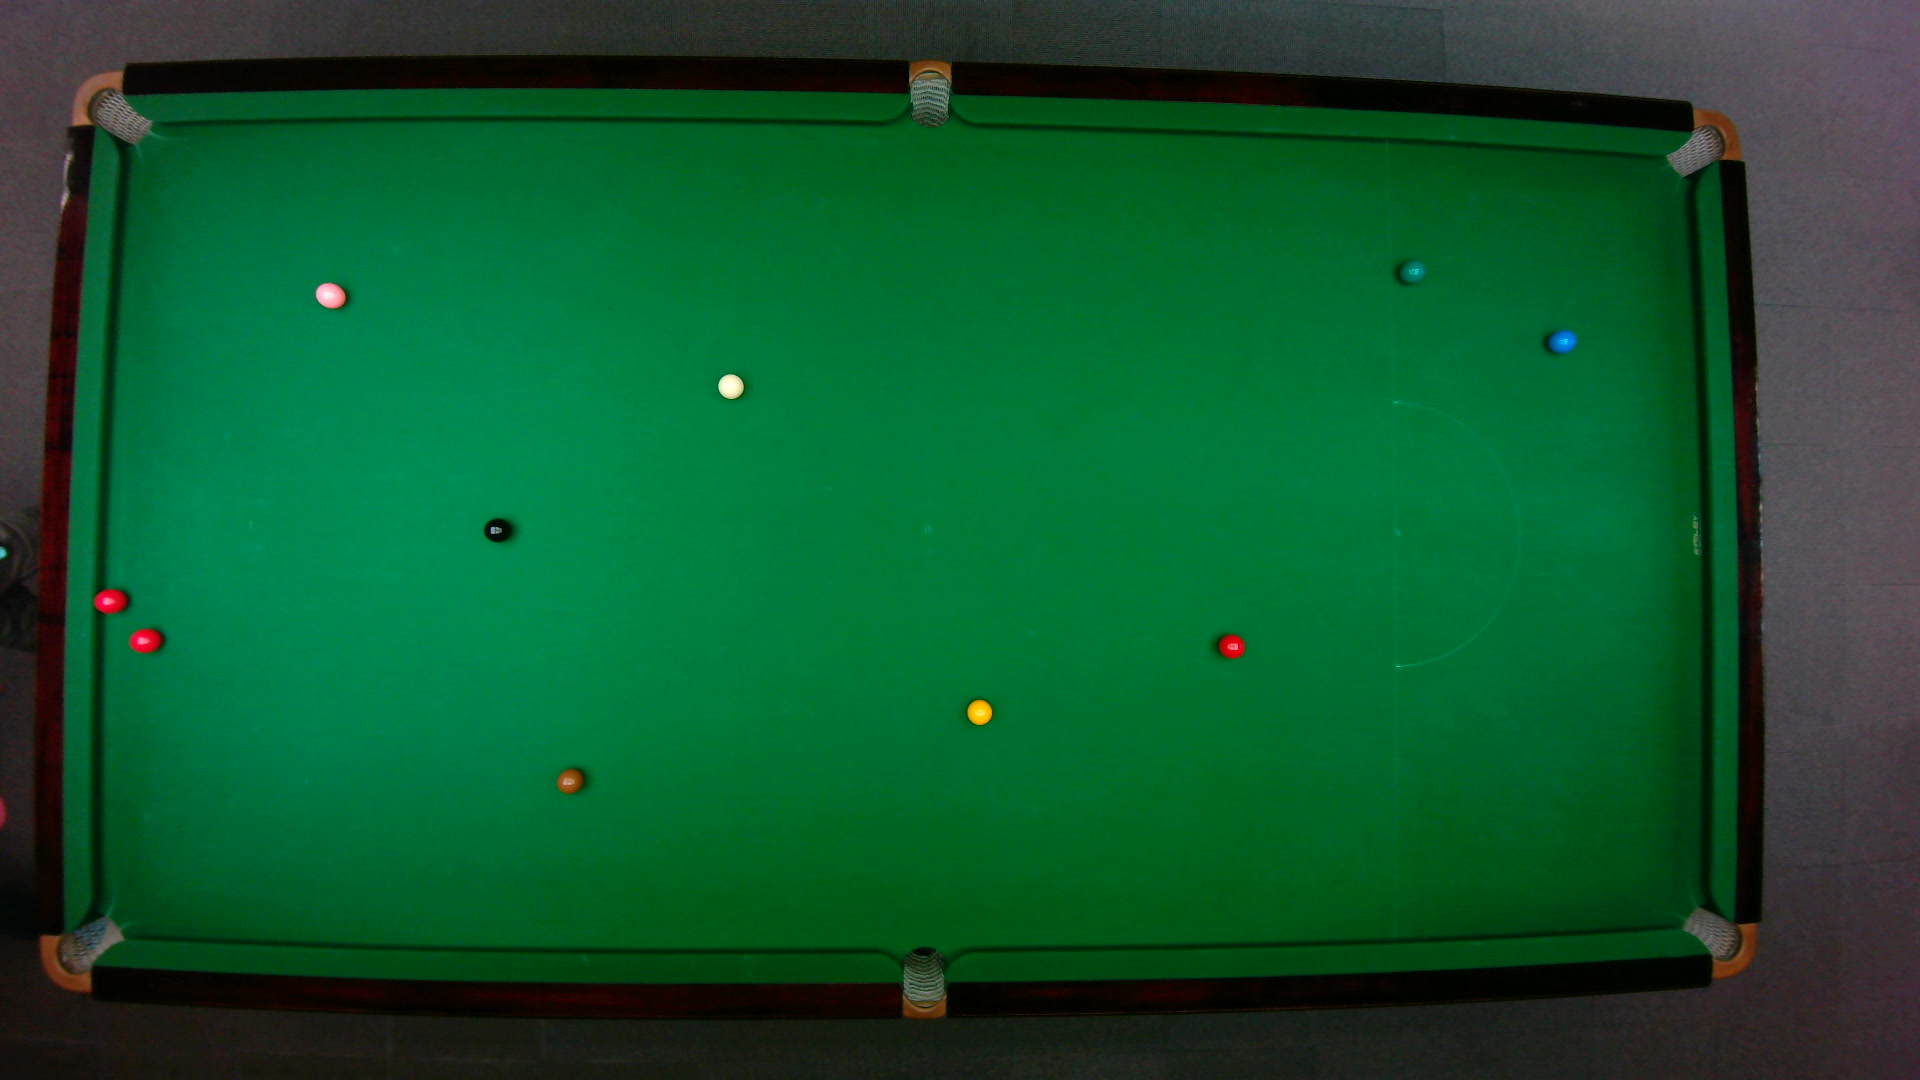bag: (38, 913, 125, 992), (69, 69, 152, 145), (1679, 905, 1756, 978), (1663, 107, 1741, 178), (901, 944, 944, 1021), (909, 57, 949, 128)
black: (483, 516, 512, 542)
blue: (1545, 327, 1577, 353)
brown: (555, 767, 583, 794)
green: (1396, 258, 1427, 284)
pink: (313, 280, 347, 310)
red: (91, 585, 128, 613), (127, 626, 164, 653), (1215, 632, 1245, 658)
white: (715, 371, 745, 400)
yellow: (964, 696, 993, 727)
zone: (1390, 400, 1520, 669)
